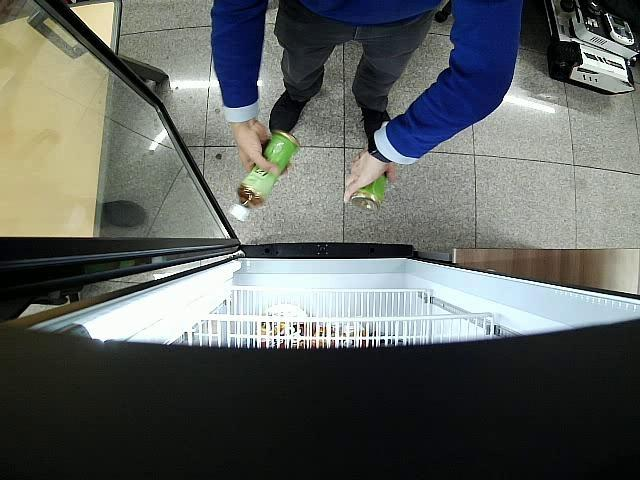19_17cha: (229, 129, 302, 221), (350, 172, 388, 213)
